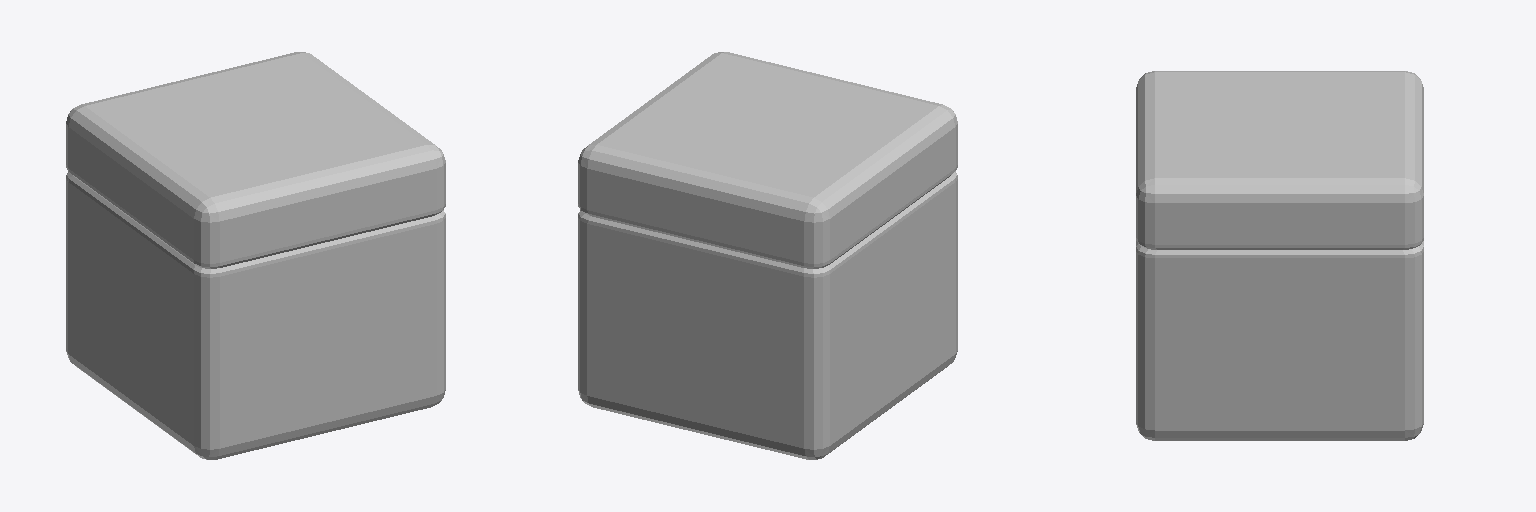
File: tileHigh_teamYellow.obj
The picture shows the model from 3 angles: view 1: azimuth 30°, elevation 25°; view 2: azimuth 150°, elevation 25°; view 3: azimuth 270°, elevation 25°; orthographic projection.
Parts seen in each view (by area): view 1: tileHigh_teamYellow_Cube.016; view 2: tileHigh_teamYellow_Cube.016; view 3: tileHigh_teamYellow_Cube.016.
Part boxes in pixels (left/top/right/bottom): tileHigh_teamYellow_Cube.016: left=66, top=52, right=445, bottom=459; tileHigh_teamYellow_Cube.016: left=578, top=52, right=957, bottom=459; tileHigh_teamYellow_Cube.016: left=1136, top=71, right=1423, bottom=440.
Size of the model in its own units: 2 by 2 by 2.